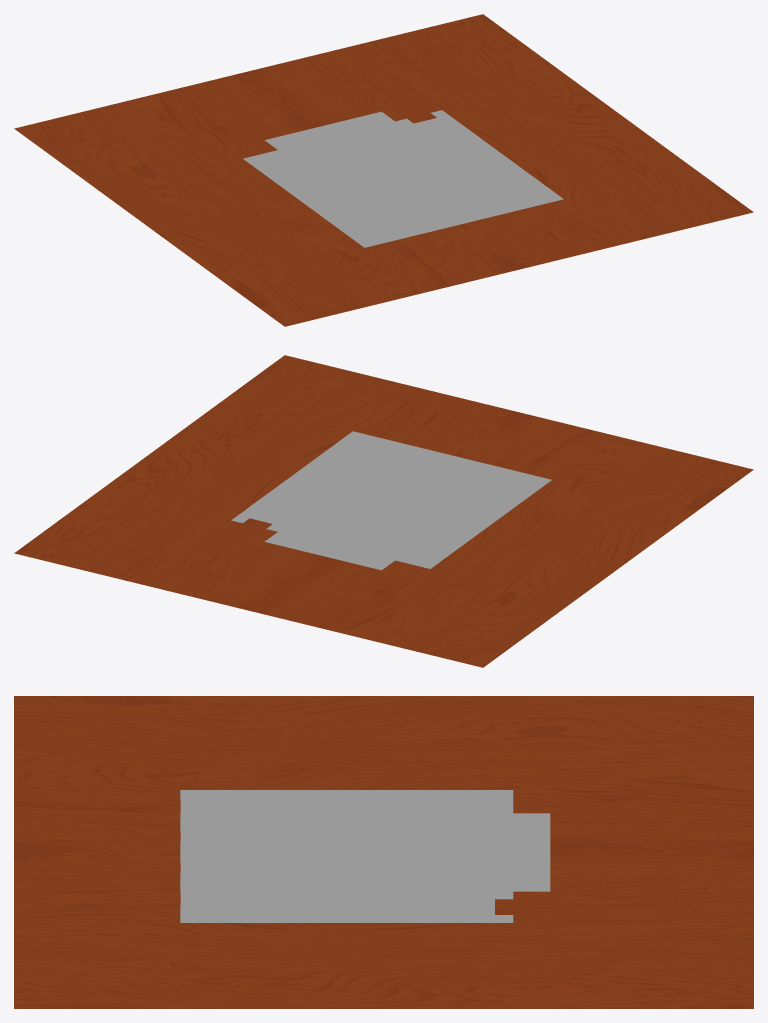
Rendered from Map (1).fbx.
3 renders of one model, top to bottom at view 1: azimuth 30°, elevation 25°; view 2: azimuth 150°, elevation 25°; view 3: azimuth 270°, elevation 25°, orthographic. The views are drawn at different scales.
Visible parts, largest first — view 1: Map1; view 2: Map1; view 3: Map1.
Part boxes in pixels (x1,y1,x2,y2): Map1: (14,14,753,326); Map1: (14,355,753,667); Map1: (14,696,753,1008).
Size of the model in its own units: 20 by 0 by 20.
Materials: 2 (1 with a texture image).
